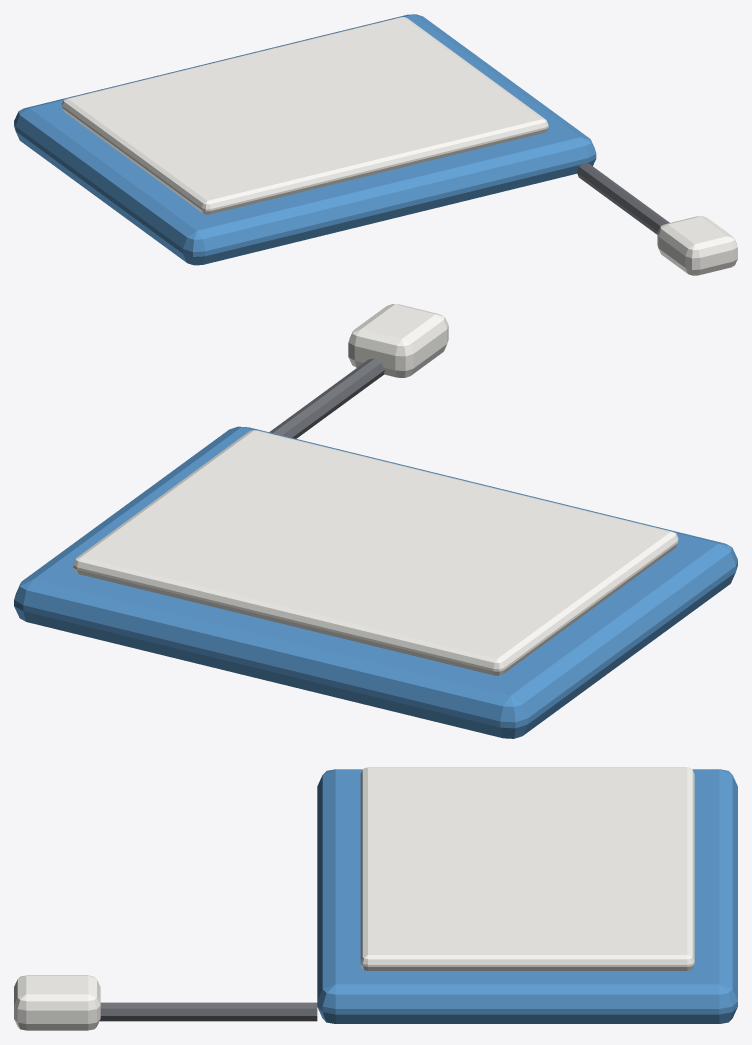
File: boarding-kennels-and-cattery-boarding-kennels-and-catt-d3c92cd5__35553.glb
3 renders of one model, top to bottom at view 1: azimuth 30°, elevation 25°; view 2: azimuth 150°, elevation 25°; view 3: azimuth 270°, elevation 25°, orthographic. The views are drawn at different scales.
Visible parts, largest first — view 1: boarding-kennels-and-cattery-heat-pad; view 2: boarding-kennels-and-cattery-heat-pad; view 3: boarding-kennels-and-cattery-heat-pad.
Part boxes in pixels (<box>): boarding-kennels-and-cattery-heat-pad: <box>14,14,737,275</box>; boarding-kennels-and-cattery-heat-pad: <box>14,304,737,738</box>; boarding-kennels-and-cattery-heat-pad: <box>14,767,737,1030</box>.
Bounding box in the file's own units: 0.4475 × 0.049 × 0.585.
